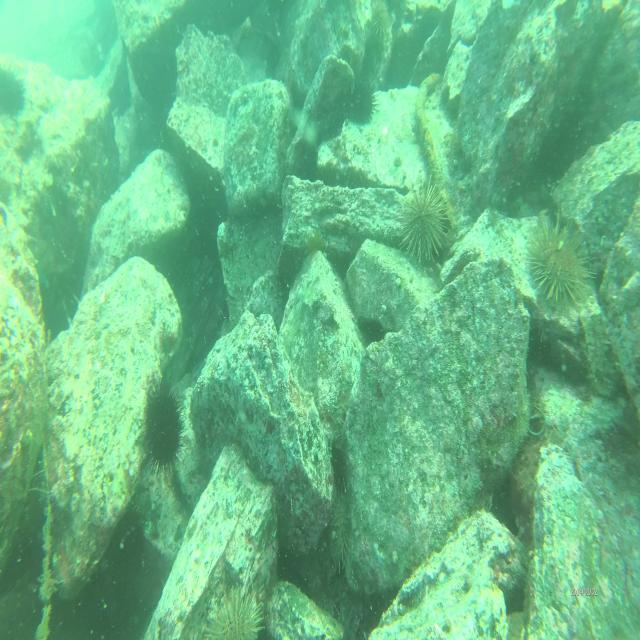echinus: (529, 215, 598, 314), (397, 181, 454, 268), (146, 378, 186, 485), (206, 582, 264, 640), (328, 480, 351, 572), (342, 78, 382, 126), (0, 64, 27, 122), (368, 0, 397, 46)
